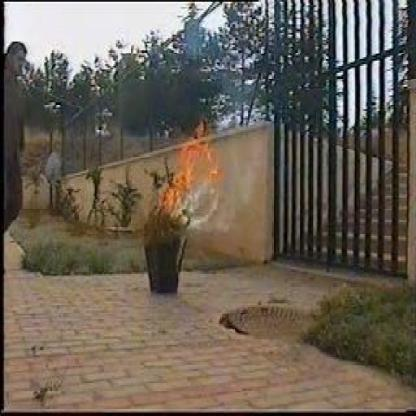foggia-v2-map80-epoch100 - v1 4323: (157, 118, 217, 210)
